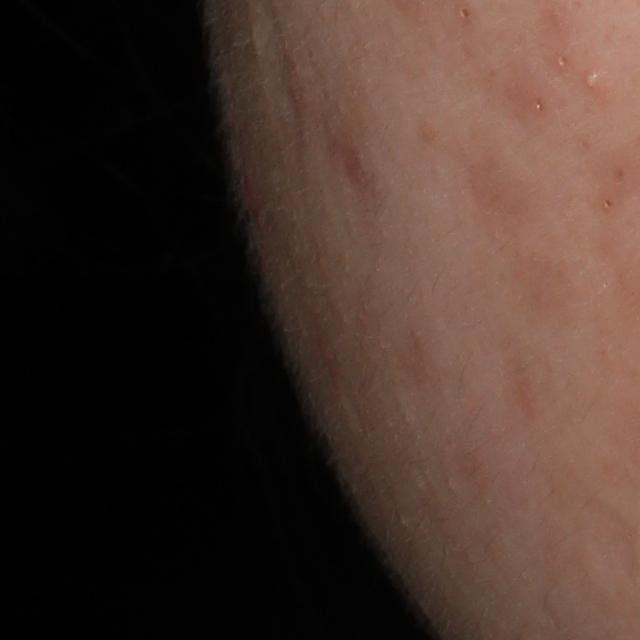comedo: (554, 54, 569, 70), (457, 5, 471, 22)
pustule: (581, 68, 602, 93)
